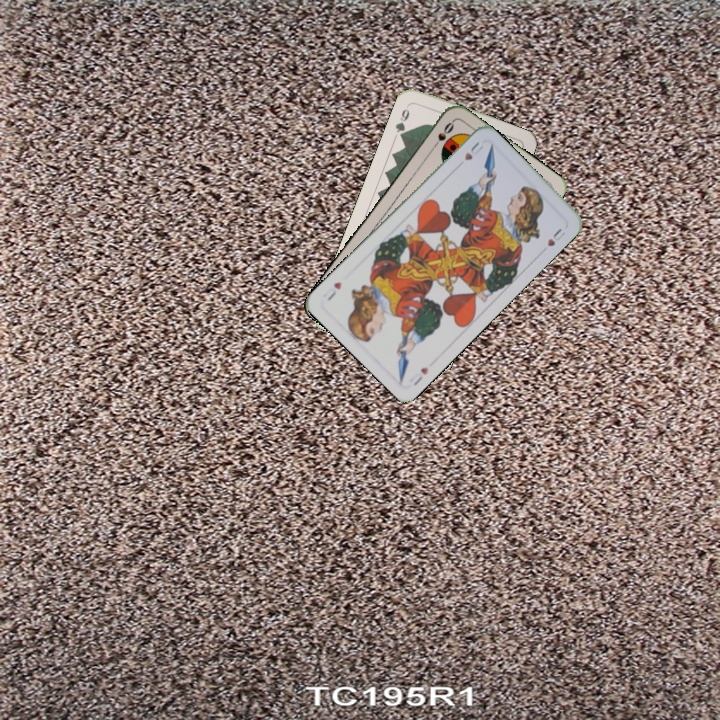G9: (391, 100, 413, 141)
HU: (460, 138, 486, 163), (405, 363, 431, 388)
SO: (428, 117, 457, 152)
